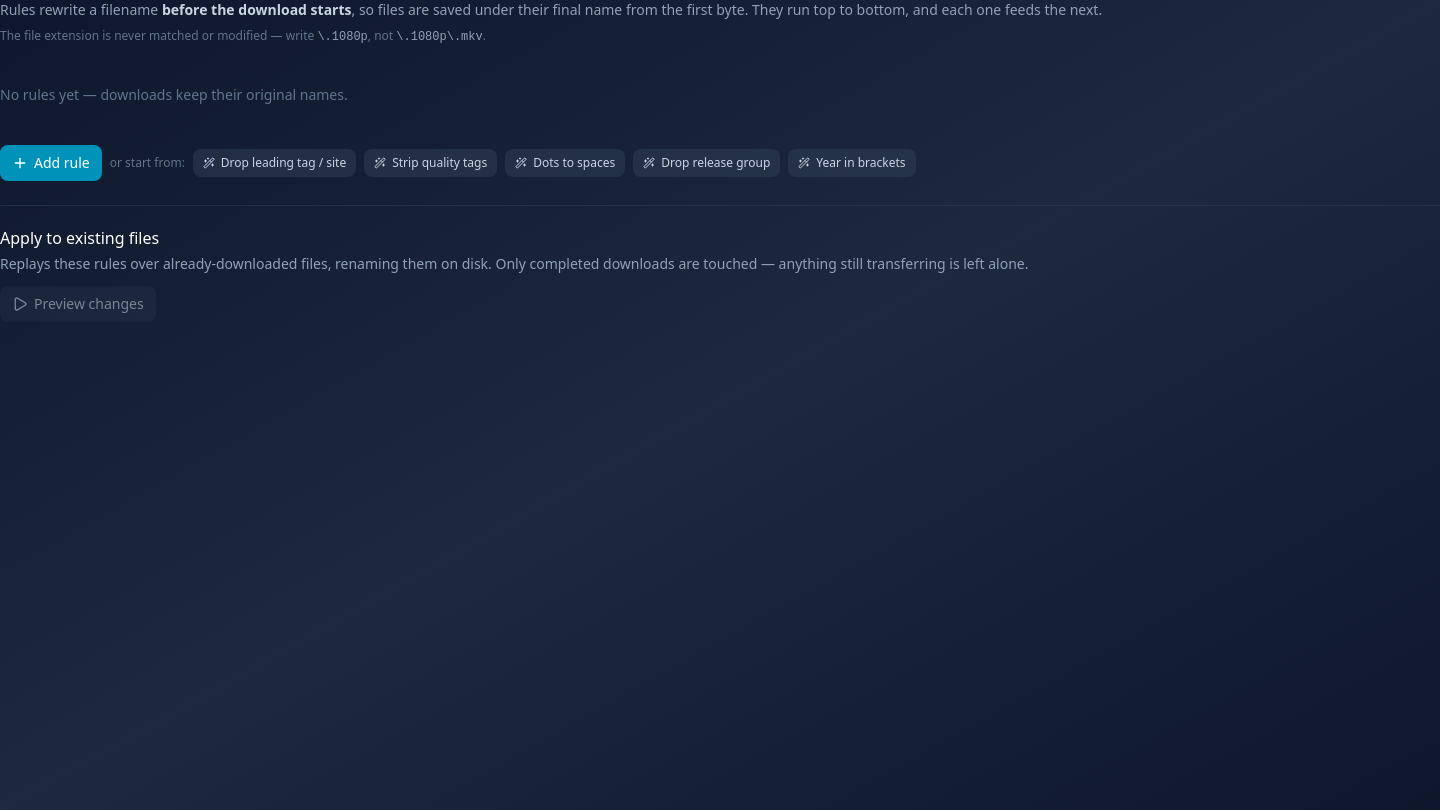
RenameRulesSettings - editor › a refused save stays inline next to the fields
Click the button "Add rule".
click(51, 163)  # box top-left (0, 145), bottom-right (102, 181)
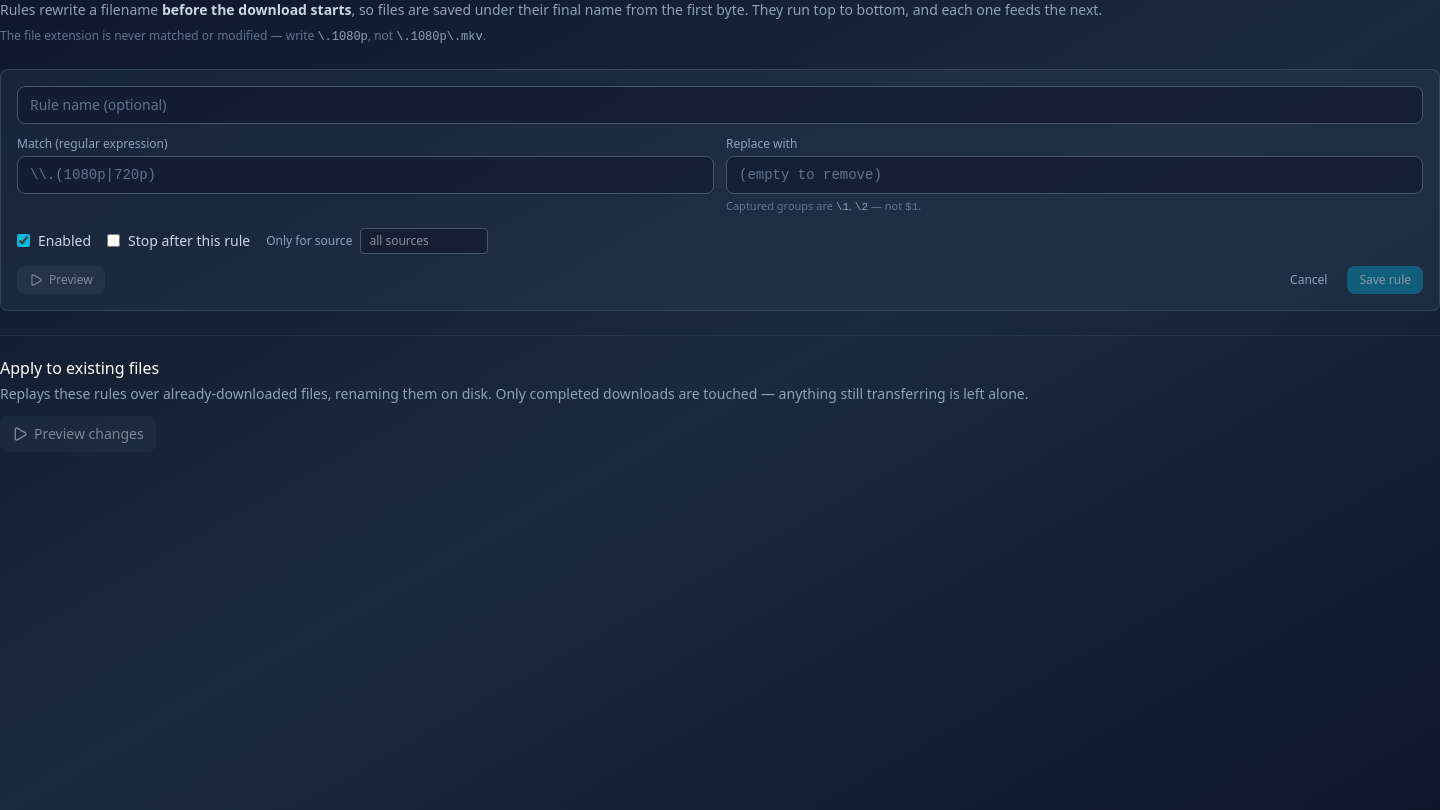
Type "(a)" into the field with placeholder "\\\\.(1080p|720p)".
click(366, 175); type("(a)")  # box top-left (17, 156), bottom-right (714, 194)
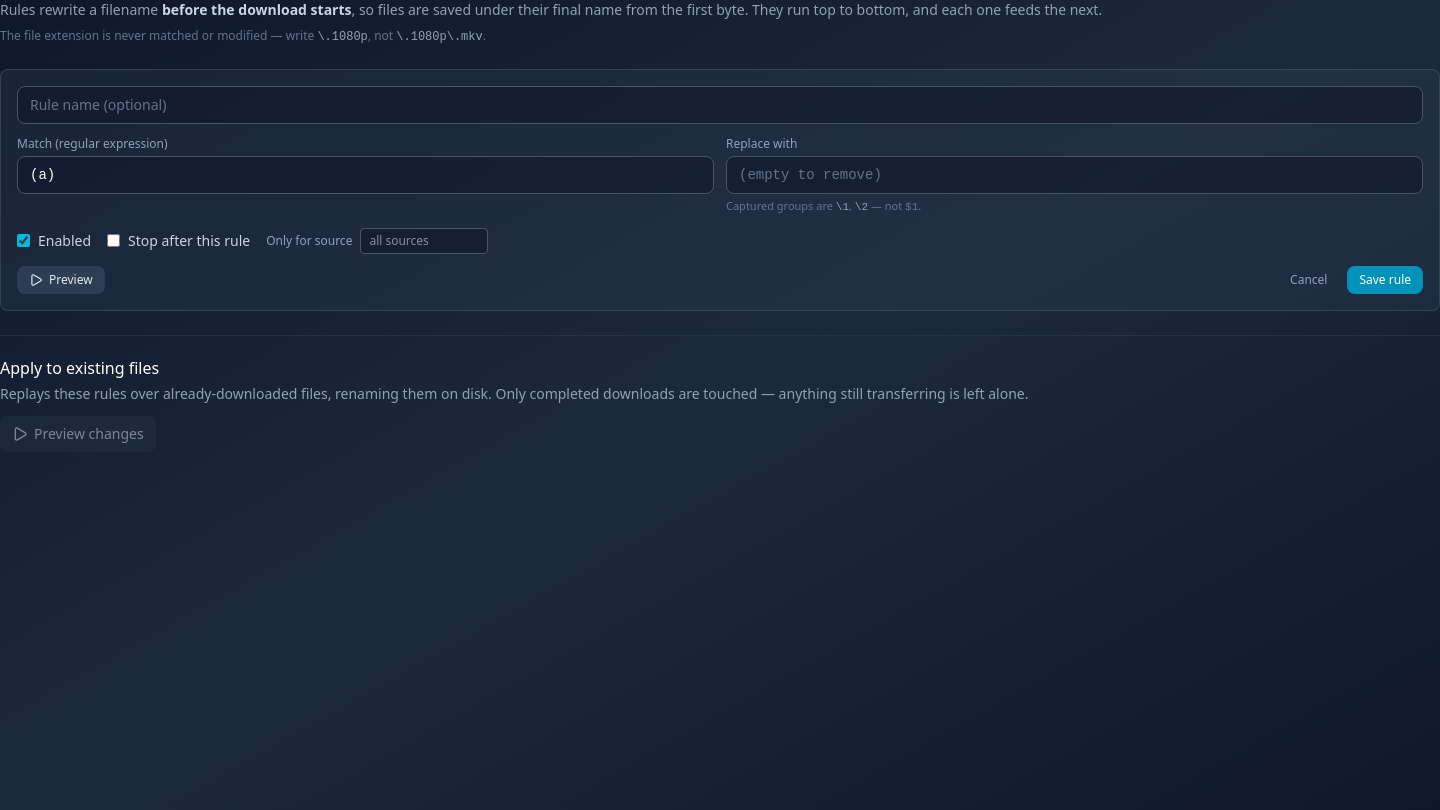
Type "\\3" into the field with placeholder "(empty to remove)".
click(1074, 175); type("\\3")  # box top-left (726, 156), bottom-right (1423, 194)
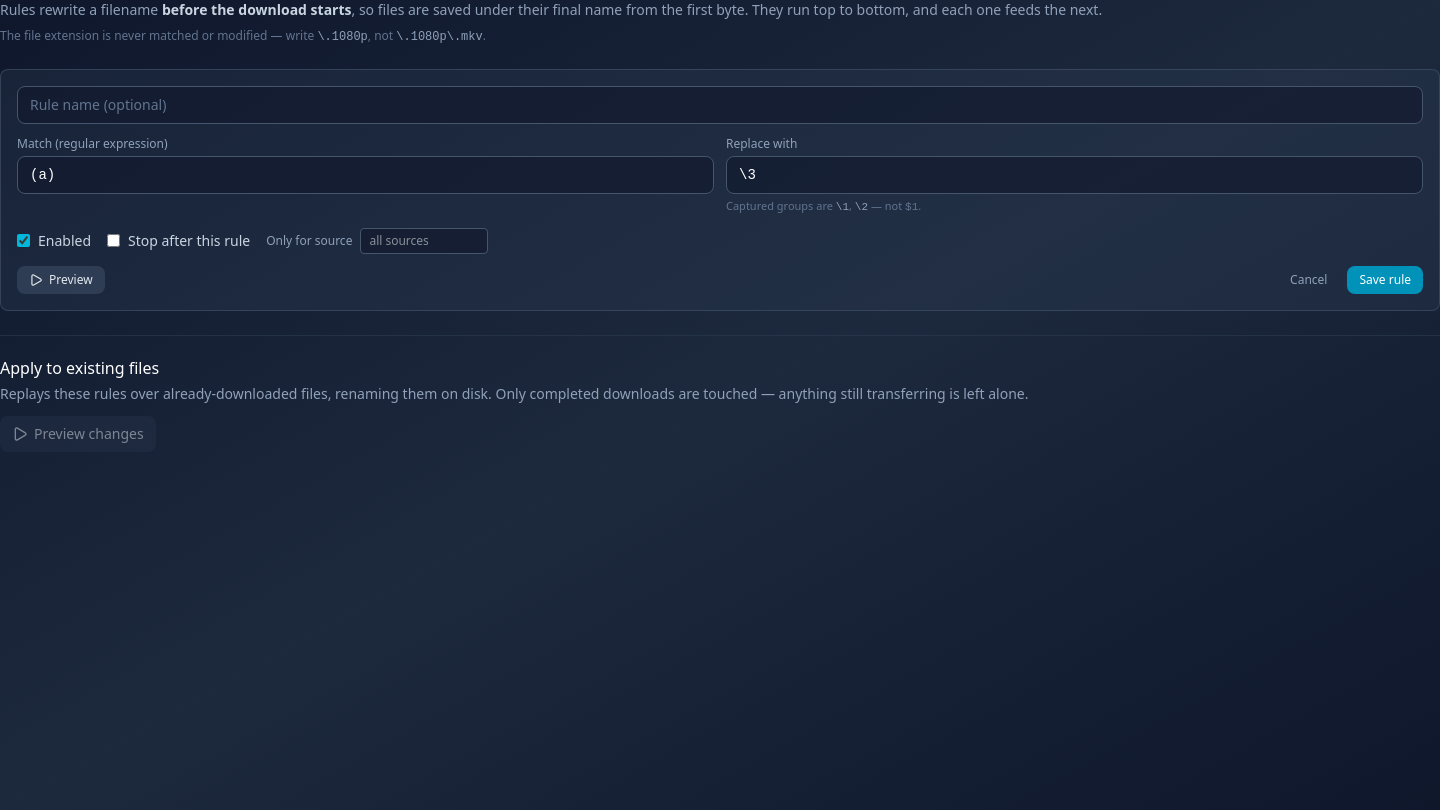
Click the button "Save rule".
click(1385, 280)  # box top-left (1348, 266), bottom-right (1423, 294)
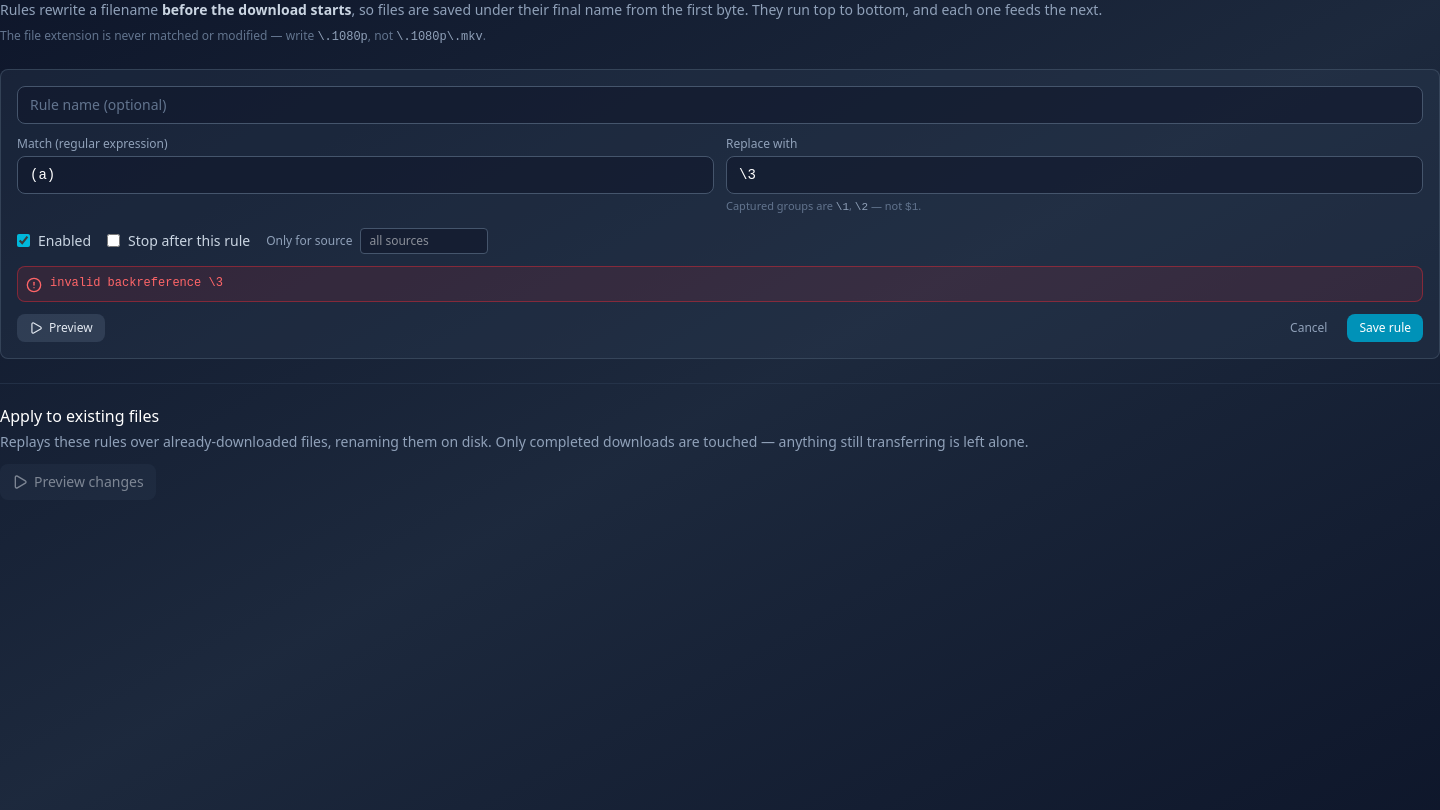
expect the text "invalid backreference \\3" is shown: met, box top-left (50, 274), bottom-right (223, 290)
